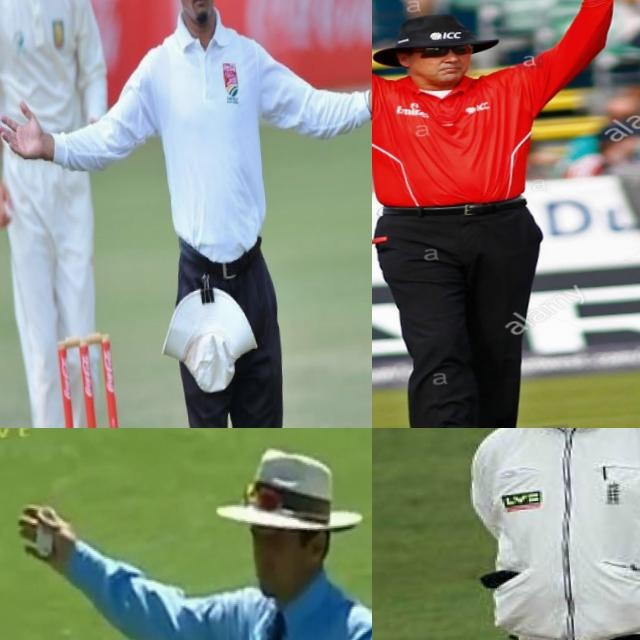No_Action: (440, 428, 640, 640)
Six: (372, 0, 640, 428)
Wide: (0, 0, 372, 263), (14, 428, 372, 640)
